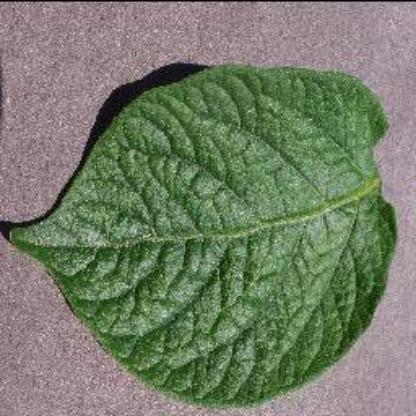Healthy-plant: (11, 58, 404, 408)
